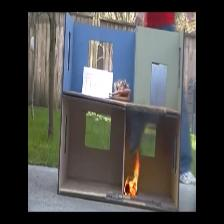fire: (127, 157, 139, 198)
smoke: (134, 114, 139, 146)
